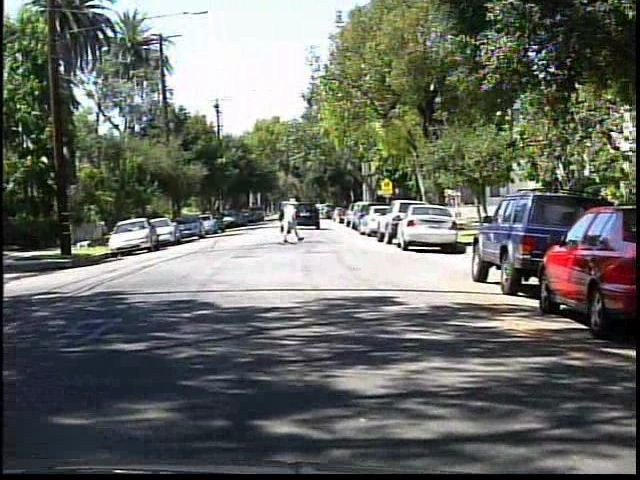person: (276, 194, 304, 245)
